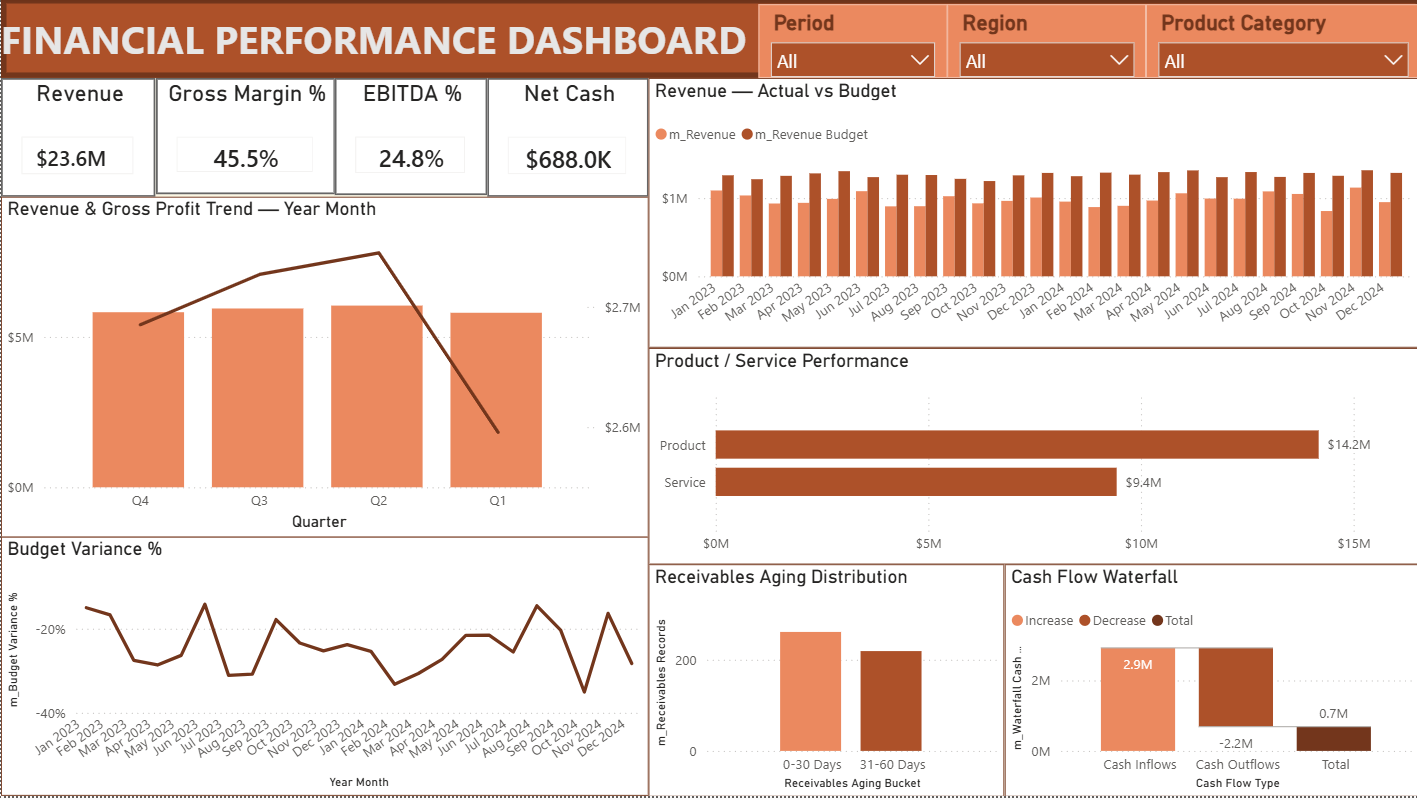

What the dashboard file says about the page in this screenshot:
{"tool":"powerbi","page":{"name":"Page 1","canvas":[1280,720],"ordinal":0},"visuals":[{"type":"shape","box":[0,0,1280.3,72.1],"z":0},{"type":"slicer","fields":{"Values":["DimMonth.Date Hierarchy.Year","DimMonth.Date Hierarchy.Quarter","DimMonth.Date Hierarchy.Year Month"]},"box":[683,5.4,170.1,66.7],"z":1000},{"type":"slicer","fields":{"Values":["DimRegion.Region"]},"box":[853.1,5.4,179.6,66.7],"z":2000},{"type":"slicer","fields":{"Values":["DimProduct.Product Category"]},"box":[1032.7,5.4,247.6,66.7],"z":3000},{"type":"cardVisual","title":"Revenue","fields":{"Data":["FactFinancial.m_Revenue"]},"box":[0,72.1,139.5,107],"z":4000},{"type":"cardVisual","title":"Gross Margin %","fields":{"Data":["FactFinancial.m_Gross Margin %"]},"box":[139.5,72.1,161.6,104.7],"z":5000},{"type":"cardVisual","title":"Net Cash","fields":{"Data":["FactFinancial.m_Net Cash"]},"box":[438.4,72.1,145.3,107],"z":6000},{"type":"cardVisual","title":"EBITDA %","fields":{"Data":["FactFinancial.m_EBITDA %"]},"box":[301.2,72.1,137.2,105.8],"z":7000},{"type":"lineClusteredColumnComboChart","title":"Revenue & Gross Profit Trend — Year Month","fields":{"Category":["DimMonth.Date Hierarchy.Year","DimMonth.Date Hierarchy.Quarter","DimMonth.Date Hierarchy.Year Month"],"Y":["FactFinancial.m_Revenue"],"Y2":["FactFinancial.m_Gross Profit"]},"box":[0,179.1,583.7,307],"z":8000},{"type":"lineClusteredColumnComboChart","title":"Revenue — Actual vs Budget","fields":{"Category":["DimMonth.Year Month"],"Y":["FactFinancial.m_Revenue","FactFinancial.m_Revenue Budget"]},"box":[583.7,72.1,696.5,243],"z":9000},{"type":"lineChart","title":"Budget Variance %","fields":{"Category":["DimMonth.Year Month"],"Y":["FactFinancial.m_Budget Variance %"]},"box":[0,486,583.7,233.7],"z":10000},{"type":"clusteredBarChart","title":"Product / Service Performance","fields":{"Category":["DimProduct.Product Category Hierarchy.Product Category","DimProduct.Product Category Hierarchy.Product/Service"],"Y":["FactFinancial.m_Revenue"]},"box":[583.7,315.1,696.5,195.3],"z":11000},{"type":"clusteredColumnChart","title":"Receivables Aging Distribution","fields":{"Category":["FactFinancial.Receivables Aging Bucket"],"Y":["FactFinancial.m_Receivables Records"]},"box":[583.7,510.5,320.9,209.3],"z":12000},{"type":"waterfallChart","title":"Cash Flow Waterfall","fields":{"Y":["Cash Flow Type.m_Waterfall Cash Flow"],"Category":["Cash Flow Type.Cash Flow Type"]},"box":[904.7,510.5,375.6,209.3],"z":13000}]}

Visuals, with their boxes in screenshot pixels (x1, y1, x2, y2), scaled from the page's 1280x720 canvas onto the 1417x800 screenshot:
shape: BBox(0, 0, 1416, 80)
slicer - DimMonth.Date Hierarchy.Year x DimMonth.Date Hierarchy.Quarter: BBox(756, 6, 944, 80)
slicer - DimRegion.Region: BBox(944, 6, 1143, 80)
slicer - DimProduct.Product Category: BBox(1143, 6, 1416, 80)
"Revenue" cardVisual: BBox(0, 80, 154, 199)
"Gross Margin %" cardVisual: BBox(154, 80, 333, 196)
"Net Cash" cardVisual: BBox(485, 80, 646, 199)
"EBITDA %" cardVisual: BBox(333, 80, 485, 198)
"Revenue & Gross Profit Trend — Year Month" lineClusteredColumnComboChart: BBox(0, 199, 646, 540)
"Revenue — Actual vs Budget" lineClusteredColumnComboChart: BBox(646, 80, 1416, 350)
"Budget Variance %" lineChart: BBox(0, 540, 646, 799)
"Product / Service Performance" clusteredBarChart: BBox(646, 350, 1416, 567)
"Receivables Aging Distribution" clusteredColumnChart: BBox(646, 567, 1001, 799)
"Cash Flow Waterfall" waterfallChart: BBox(1002, 567, 1416, 799)
